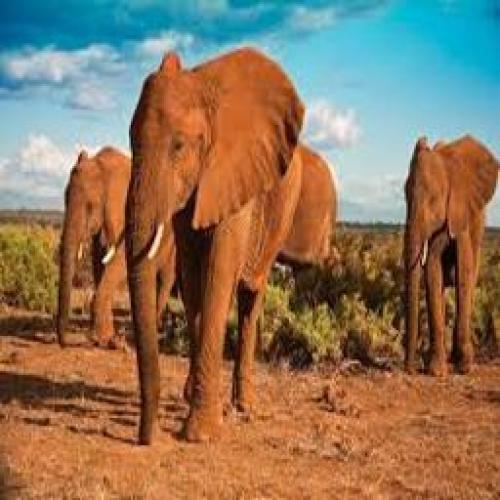african_elephant-endangered: (128, 50, 301, 434), (401, 140, 497, 372), (64, 148, 177, 332), (278, 142, 336, 295)
